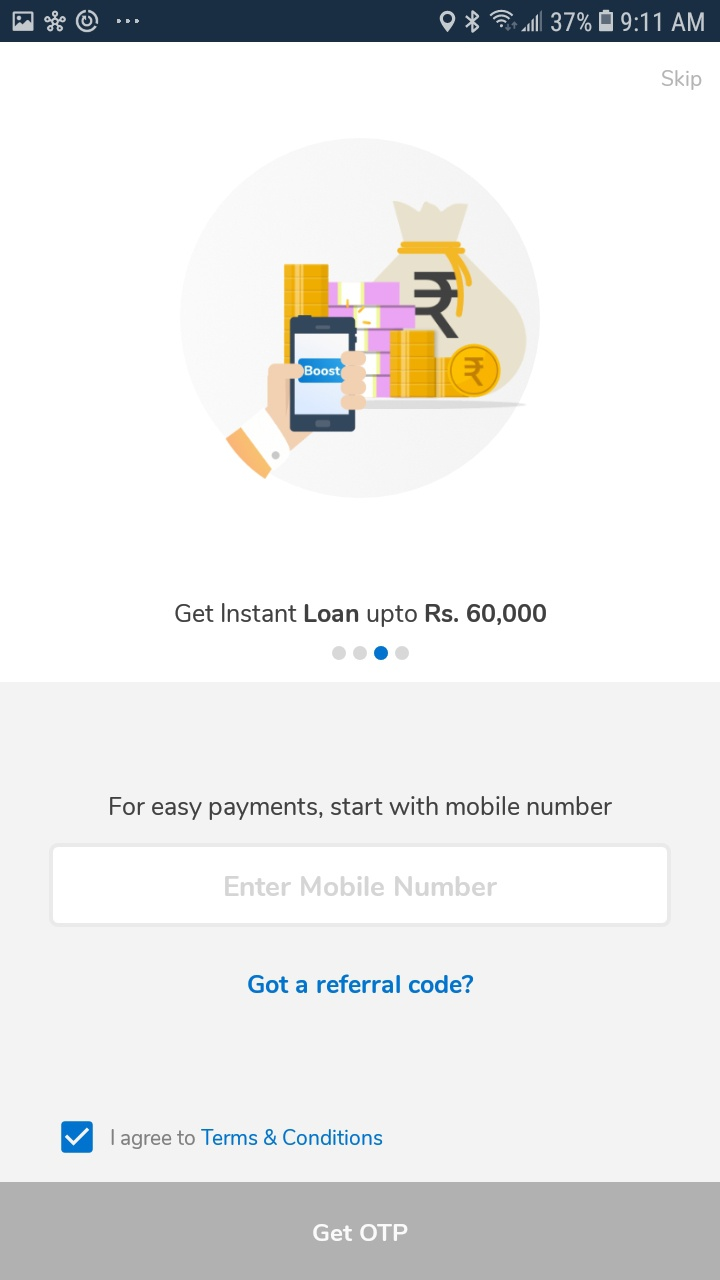CheckedTextView: (61, 1120, 383, 1154)
EditText: (50, 843, 672, 928)
Image: (181, 139, 541, 500)
PageIndicator: (331, 646, 410, 662)
Text: (110, 795, 613, 821), (175, 602, 547, 628), (225, 874, 498, 897), (111, 1129, 383, 1150), (248, 973, 474, 994), (661, 70, 702, 92)
TextButton: (1, 1182, 720, 1280)
UpperTaskBar: (1, 1, 720, 43)
